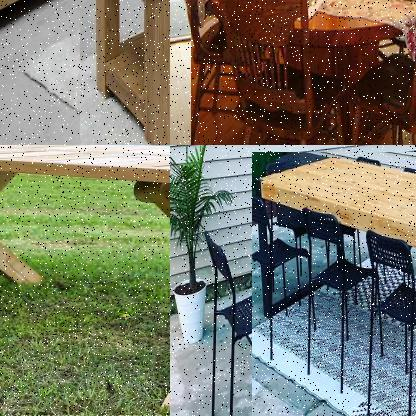table: (0, 145, 169, 415), (250, 152, 415, 415), (190, 0, 415, 144), (78, 0, 169, 144)
